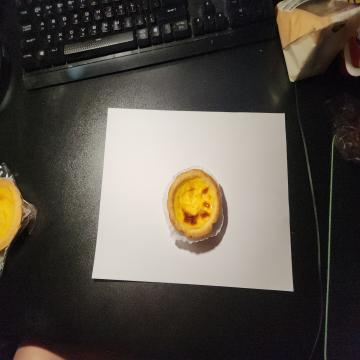EggTart: (168, 167, 221, 238)
